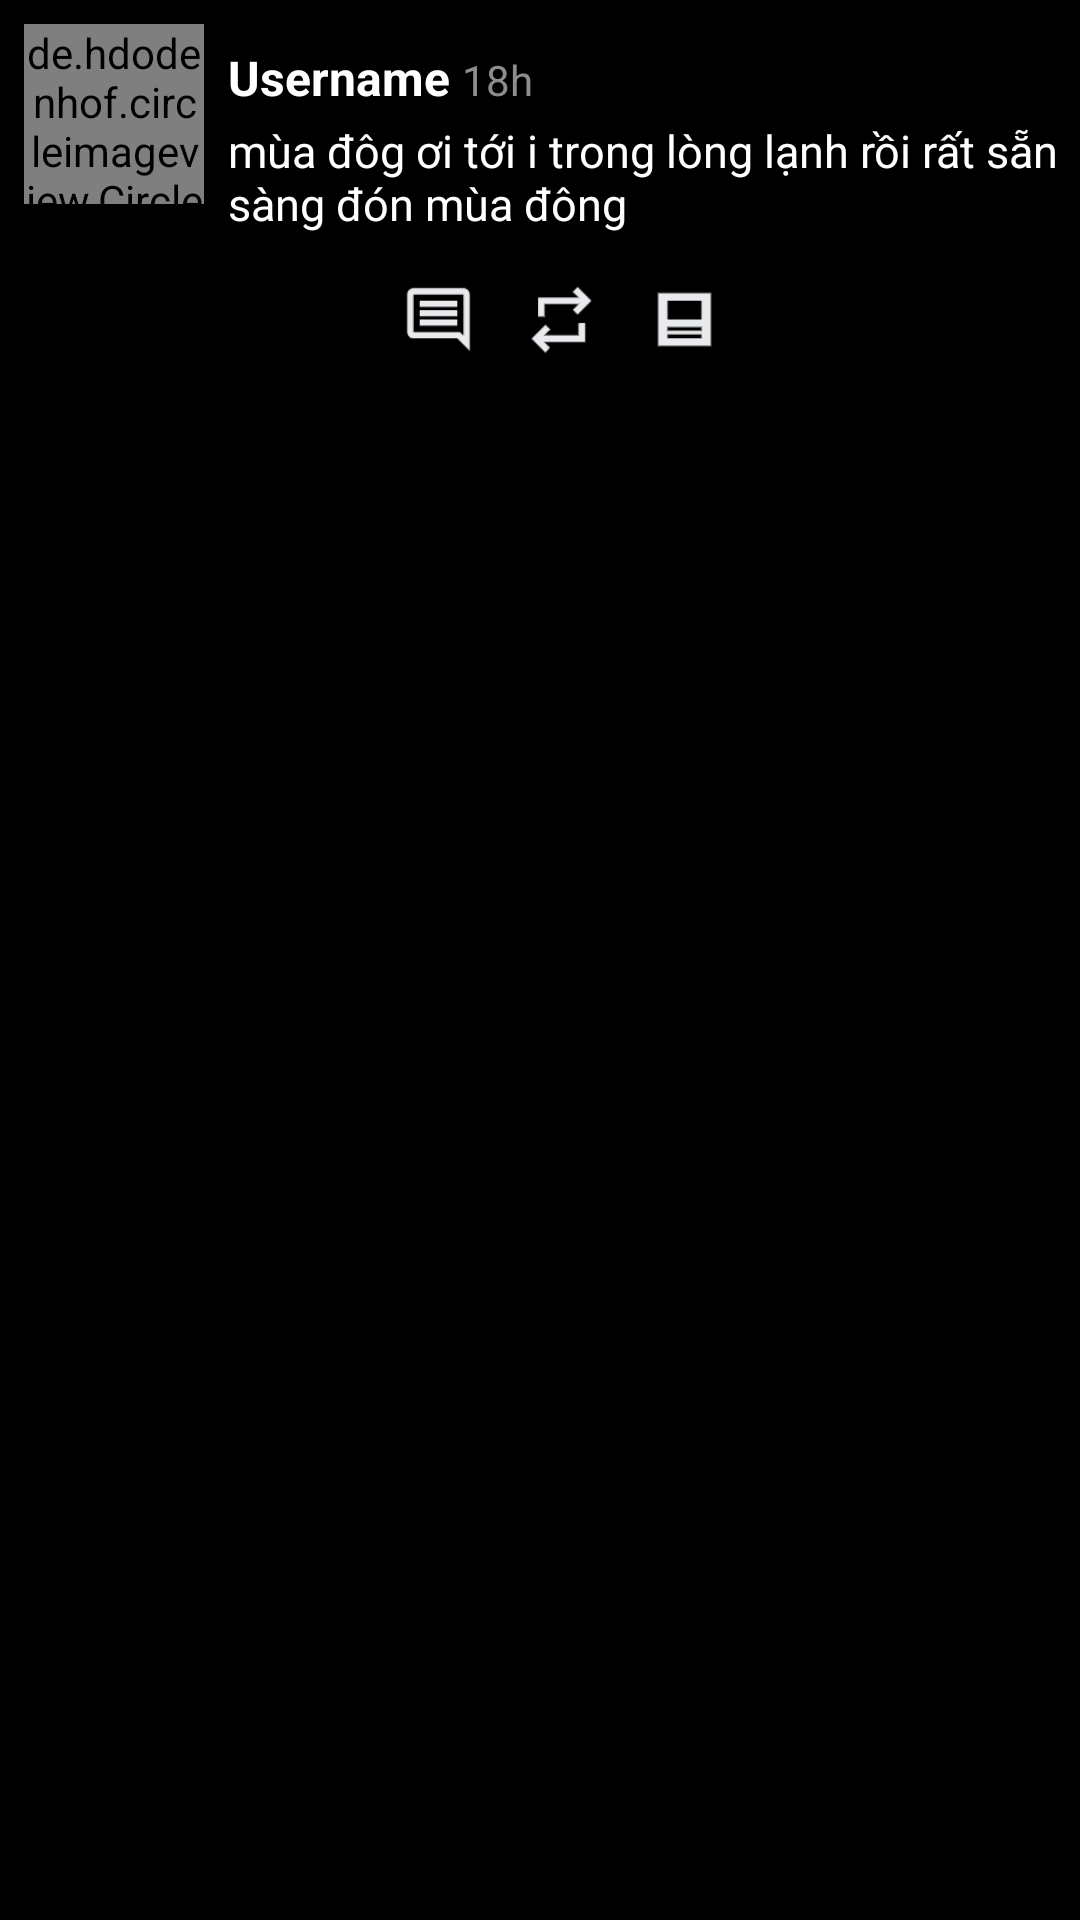

Screen size 1080w x 1920h. Icon name, then its box in pixels as (x1, y1, x2, y2):
comment: (406, 287, 471, 351)
post: (657, 292, 712, 347)
repeat: (531, 286, 592, 353)
